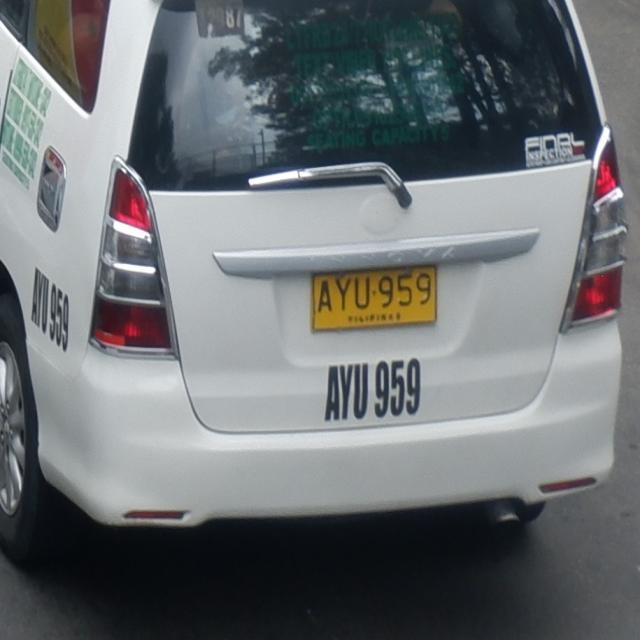LicensePlate: (303, 259, 450, 335)
